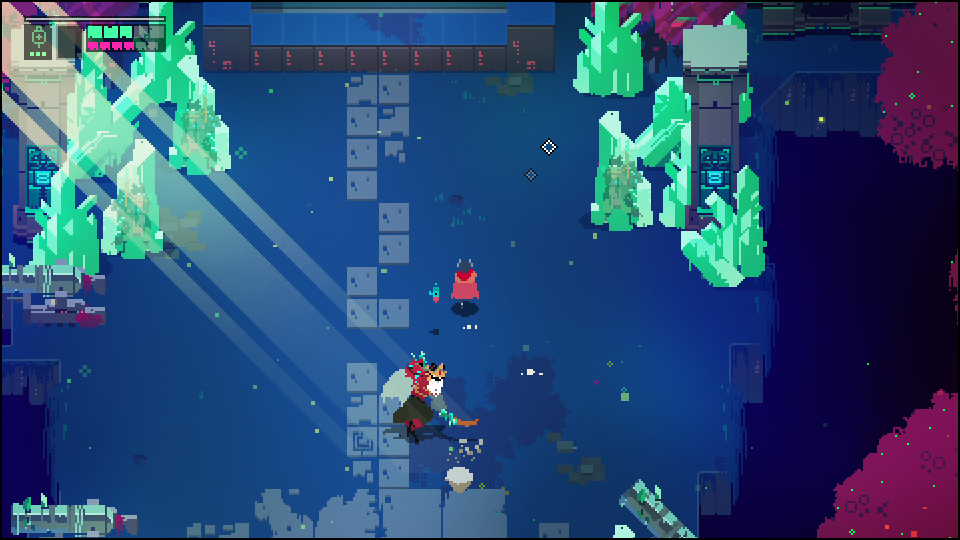hanged_man: (379, 345, 465, 437)
player: (450, 253, 485, 319)
